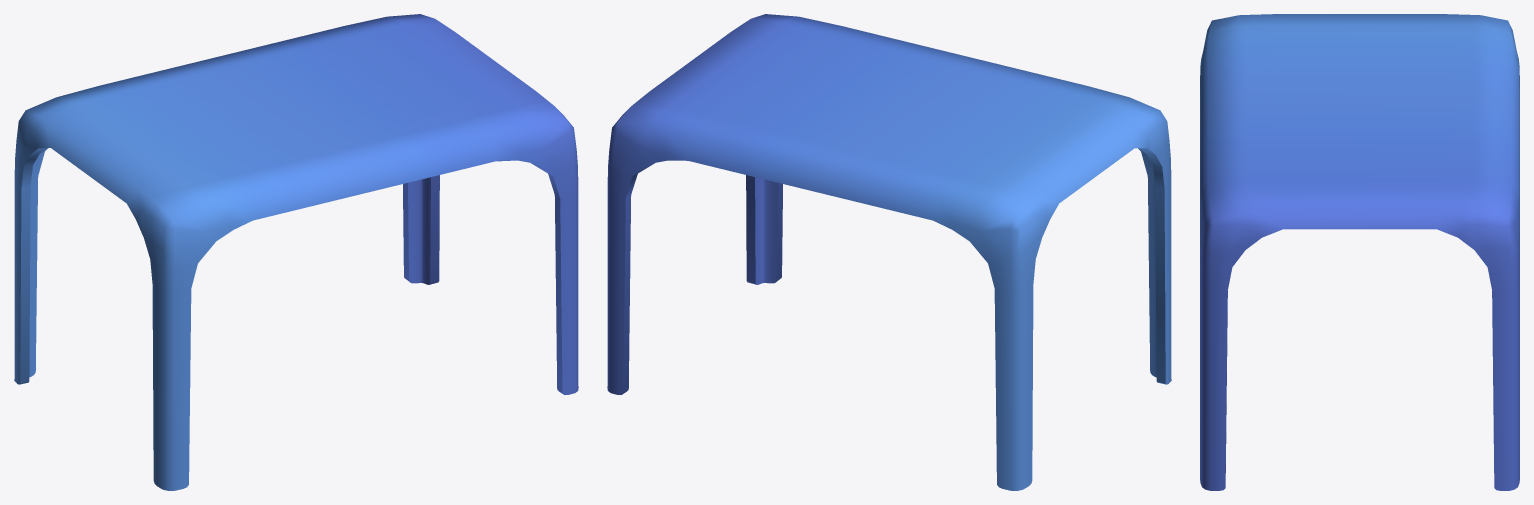
The model's file is Table01.fbx.
3 renders of one model, left to right at view 1: azimuth 30°, elevation 25°; view 2: azimuth 150°, elevation 25°; view 3: azimuth 270°, elevation 25°, orthographic.
Parts seen in each view (by area): view 1: Table01; view 2: Table01; view 3: Table01.
Part boxes in pixels (x1,y1,x2,y2): Table01: (14,14,578,490); Table01: (607,14,1171,490); Table01: (1200,14,1519,490).
Size of the model in its own units: 231 by 147 by 152.
